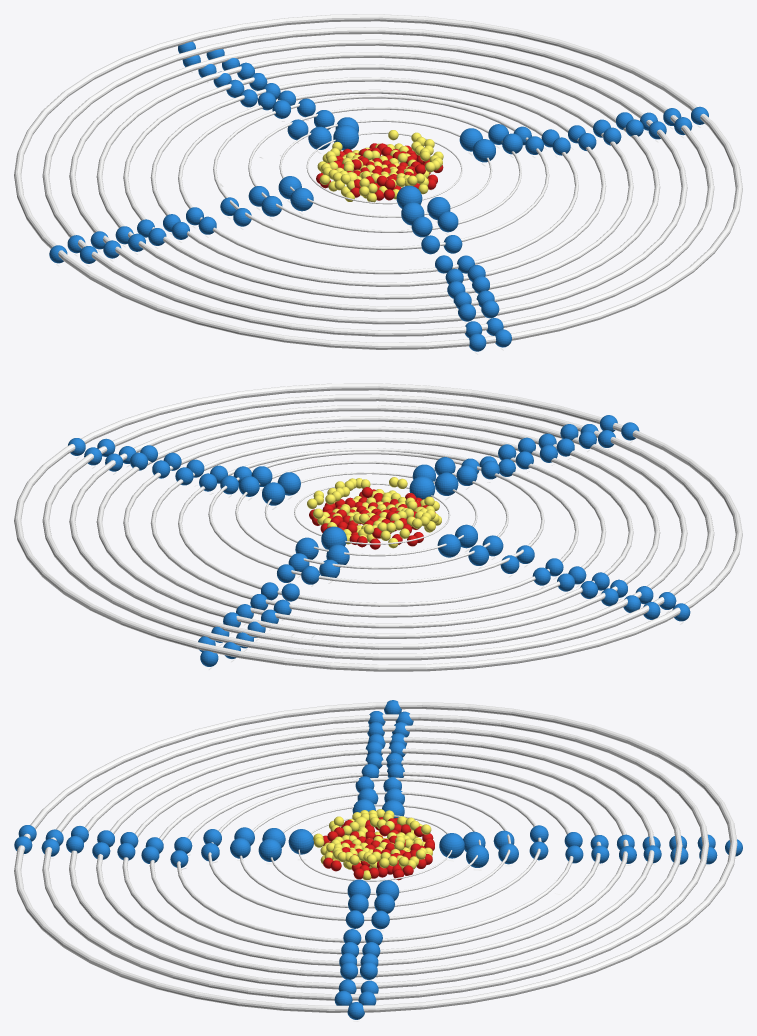
3 views of the same model, one above another, from view 1: azimuth 30°, elevation 25°; view 2: azimuth 150°, elevation 25°; view 3: azimuth 270°, elevation 25° (orthographic).
Parts seen in each view (by area): view 1: Torus.011, Torus.010, Torus.009, Torus.008, Torus.007, Torus.006, Torus.005, Torus.004, Torus.003, Torus.002, Torus.001; view 2: Torus.011, Torus.010, Torus.009, Torus.008, Torus.007, Torus.006, Torus.005, Torus.004, Torus.003, Torus.002, Torus.001; view 3: Torus.011, Torus.010, Torus.009, Torus.008, Torus.007, Torus.006, Torus.005, Torus.004, Torus.003, Torus.002, Torus.001.
Part boxes in pixels (<box>): Torus.011: <box>14,14,742,349</box>; Torus.010: <box>42,27,714,336</box>; Torus.009: <box>69,39,687,324</box>; Torus.008: <box>96,52,660,311</box>; Torus.007: <box>123,64,633,299</box>; Torus.006: <box>150,77,606,286</box>; Torus.005: <box>178,89,578,274</box>; Torus.004: <box>213,95,549,249</box>; Torus.003: <box>248,107,521,232</box>; Torus.002: <box>279,119,492,217</box>; Torus.001: <box>306,132,462,204</box>; Torus.011: <box>14,383,742,671</box>; Torus.010: <box>42,394,714,660</box>; Torus.009: <box>69,405,687,649</box>; Torus.008: <box>96,416,660,638</box>; Torus.007: <box>123,426,633,628</box>; Torus.006: <box>150,437,606,617</box>; Torus.005: <box>178,448,578,606</box>; Torus.004: <box>208,451,544,583</box>; Torus.003: <box>235,461,508,569</box>; Torus.002: <box>264,472,477,556</box>; Torus.001: <box>294,483,450,544</box>; Torus.011: <box>14,702,737,1012</box>; Torus.010: <box>42,714,709,1000</box>; Torus.009: <box>69,725,682,989</box>; Torus.008: <box>96,737,655,977</box>; Torus.007: <box>122,748,628,966</box>; Torus.006: <box>149,760,601,954</box>; Torus.005: <box>176,772,573,942</box>; Torus.004: <box>208,777,541,920</box>; Torus.003: <box>239,791,510,908</box>; Torus.002: <box>270,804,480,894</box>; Torus.001: <box>298,815,452,881</box>.
Size of the model in its own units: 28.37 by 2.85 by 28.24.
